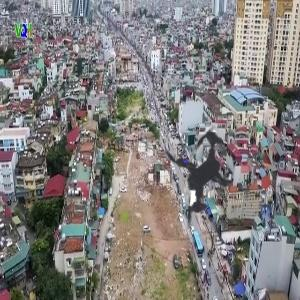drone: (113, 93, 282, 262)
